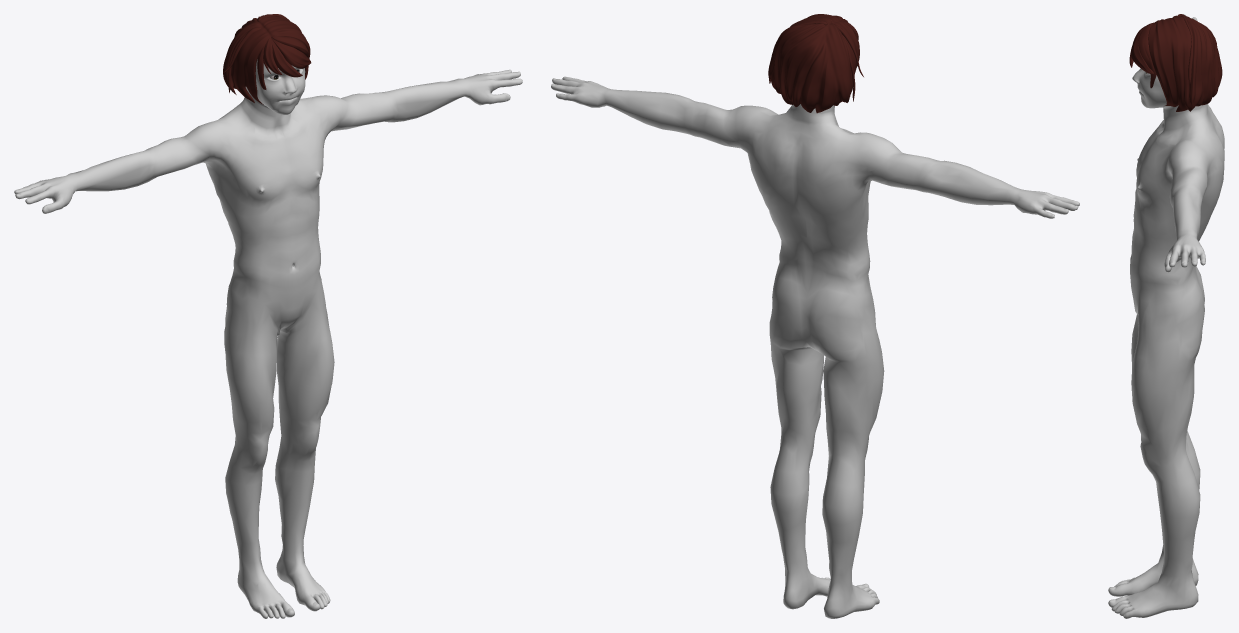
The model's file is boy_body.fbx.
3 renders of one model, left to right at view 1: azimuth 30°, elevation 25°; view 2: azimuth 150°, elevation 25°; view 3: azimuth 270°, elevation 25°, orthographic. The views are drawn at different scales.
Visible parts, largest first — view 1: Body, node_id30.001; view 2: Body, node_id30.001; view 3: Body, node_id30.001.
Part boxes in pixels (x1,y1,x2,y2): Body: (14, 59, 522, 618); node_id30.001: (223, 14, 311, 104); Body: (551, 76, 1079, 618); node_id30.001: (768, 14, 863, 113); Body: (1108, 14, 1224, 618); node_id30.001: (1129, 14, 1222, 111).
Size of the model in its own units: 68.16 by 74.16 by 13.41.
